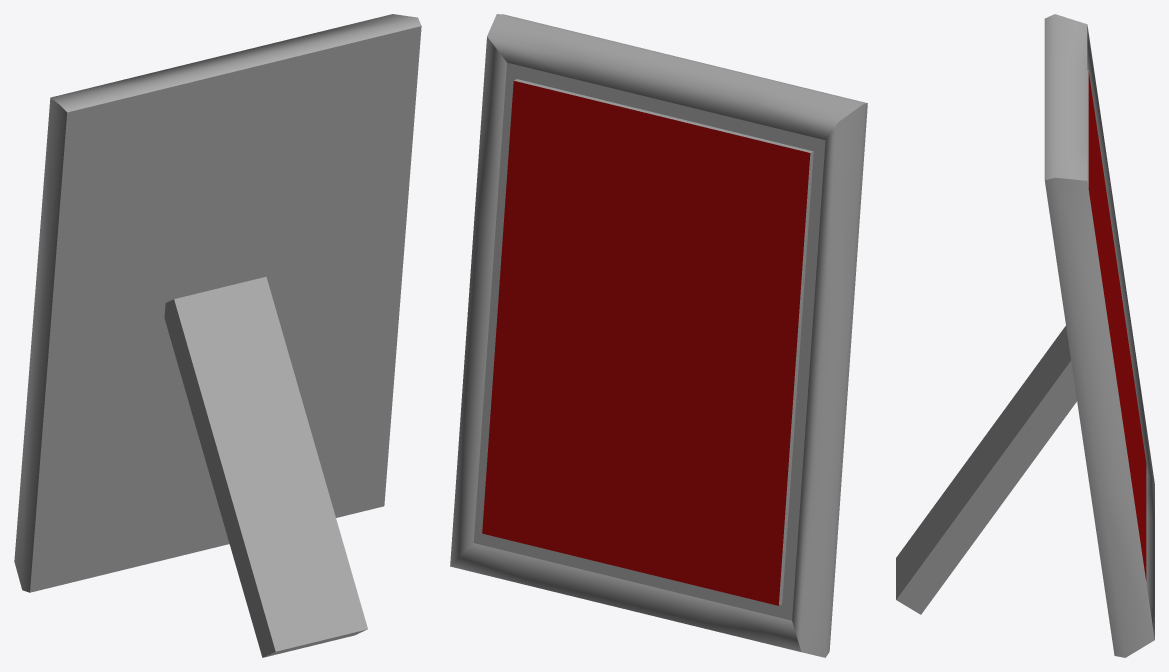
File: Asset_PicFrame.fbx
3 views of the same model, side by side, from view 1: azimuth 30°, elevation 25°; view 2: azimuth 150°, elevation 25°; view 3: azimuth 270°, elevation 25° (orthographic). The views are drawn at different scales.
Parts seen in each view (by area): view 1: pCube7; view 2: pCube7; view 3: pCube7.
Part boxes in pixels (bbox=[...]): pCube7: bbox=[14, 14, 421, 657]; pCube7: bbox=[450, 14, 867, 657]; pCube7: bbox=[896, 14, 1154, 657].
Bounding box in the file's own units: 0.9824 × 1.4 × 0.6561.
